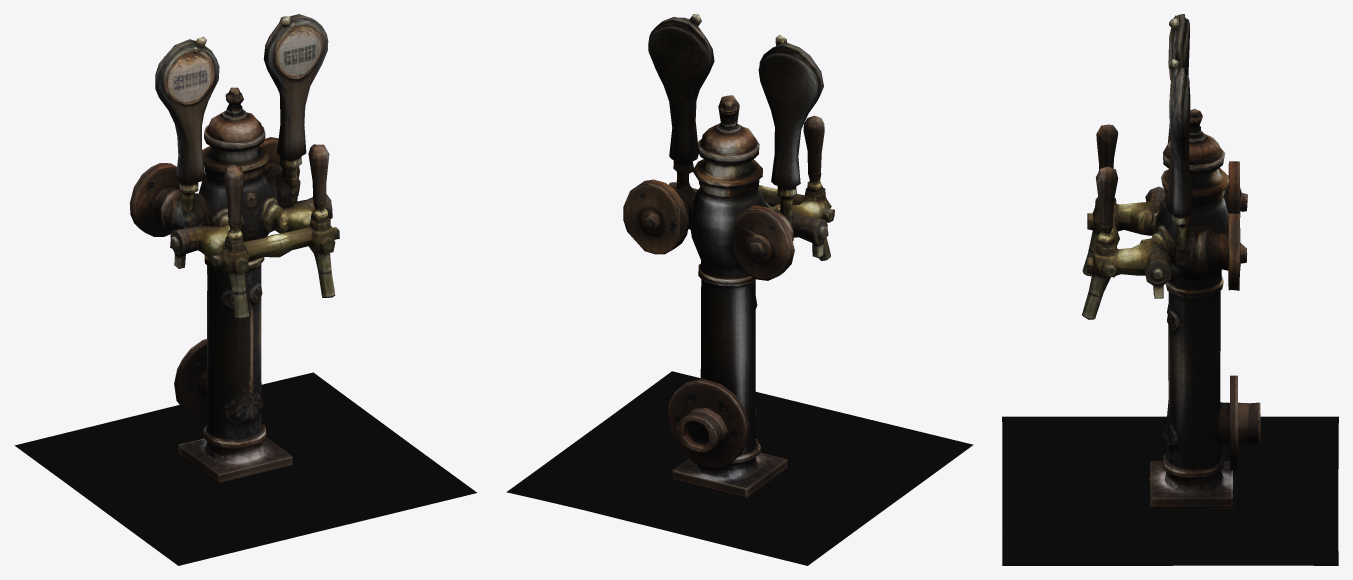
Rendered from trellis_1789143716818_bkx1r.glb.
3 views of the same model, side by side, from view 1: azimuth 30°, elevation 25°; view 2: azimuth 150°, elevation 25°; view 3: azimuth 270°, elevation 25° (orthographic). The views are drawn at different scales.
Parts seen in each view (by area): view 1: world; view 2: world; view 3: world.
Part boxes in pixels (x1=…): world: x1=14, y1=14, x2=476, y2=565; world: x1=506, y1=14, x2=973, y2=565; world: x1=1002, y1=14, x2=1338, y2=565.
Bounding box in the file's own units: 0.7031 × 0.9913 × 0.6688.
1 material, 1 textured.
